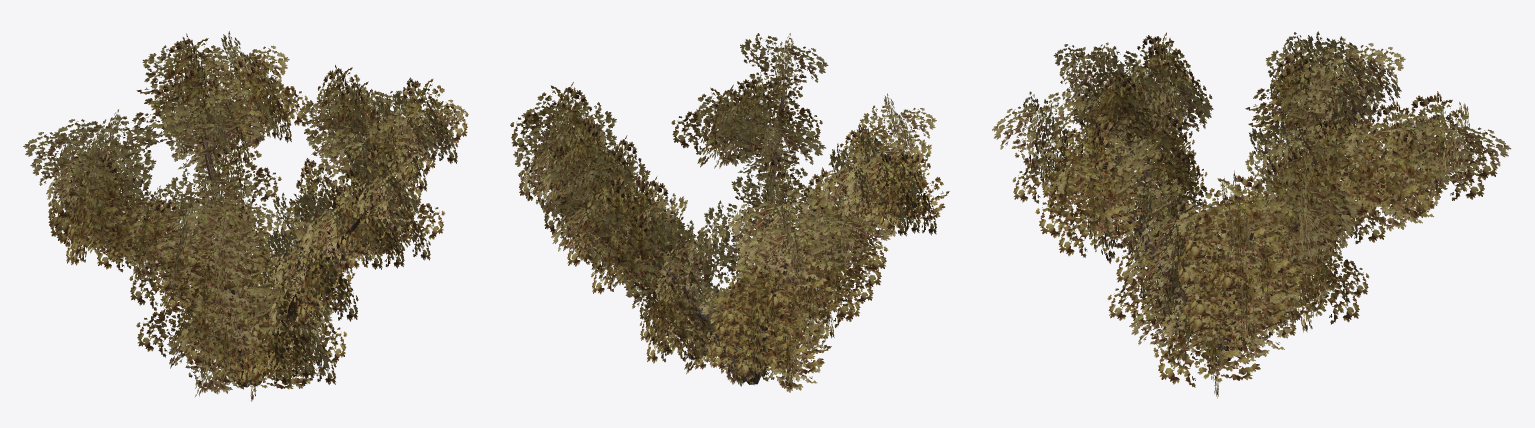
Rendered from bush_3d_01_golden_beige_lod0.glb.
3 renders of one model, left to right at view 1: azimuth 30°, elevation 25°; view 2: azimuth 150°, elevation 25°; view 3: azimuth 270°, elevation 25°, orthographic. The views are drawn at different scales.
Parts seen in each view (by area): view 1: foliage_cards, wood_geometry; view 2: foliage_cards, wood_geometry; view 3: foliage_cards, wood_geometry.
Boxes of the visible parts, <box> form: foliage_cards: <box>23,31,468,401</box>; wood_geometry: <box>91,72,427,387</box>; foliage_cards: <box>510,33,949,392</box>; wood_geometry: <box>541,82,894,384</box>; foliage_cards: <box>992,31,1510,398</box>; wood_geometry: <box>1052,89,1439,360</box>.
Bounding box in the file's own units: 2.02 × 1.29 × 2.12.
Materials: 2 (2 with a texture image).
